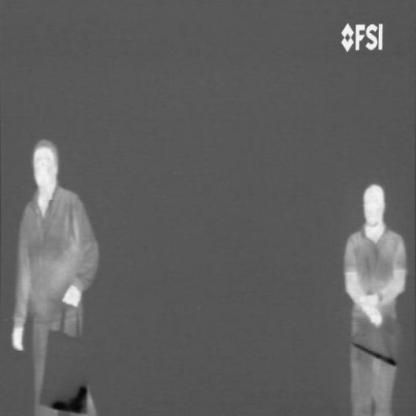weapon: (47, 381, 87, 416)
